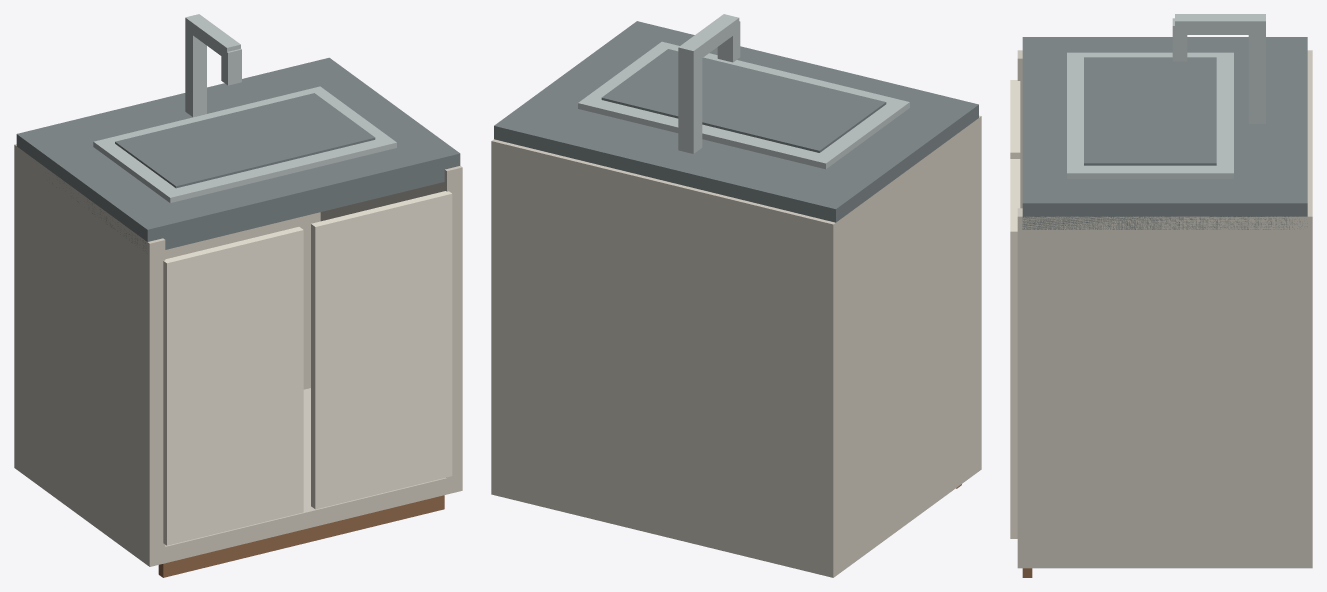
Rendered from Kitchen_Sink_80.fbx.
3 renders of one model, left to right at view 1: azimuth 30°, elevation 25°; view 2: azimuth 150°, elevation 25°; view 3: azimuth 270°, elevation 25°, orthographic. The views are drawn at different scales.
Parts seen in each view (by area): view 1: Kitchen_Sink_80; view 2: Kitchen_Sink_80; view 3: Kitchen_Sink_80.
Boxes of the visible parts, x1,y1,x2,y2 form: Kitchen_Sink_80: [14, 14, 462, 577]; Kitchen_Sink_80: [491, 14, 981, 577]; Kitchen_Sink_80: [1010, 14, 1312, 577].
Bounding box in the file's own units: 0.8 × 1.09 × 0.615.
